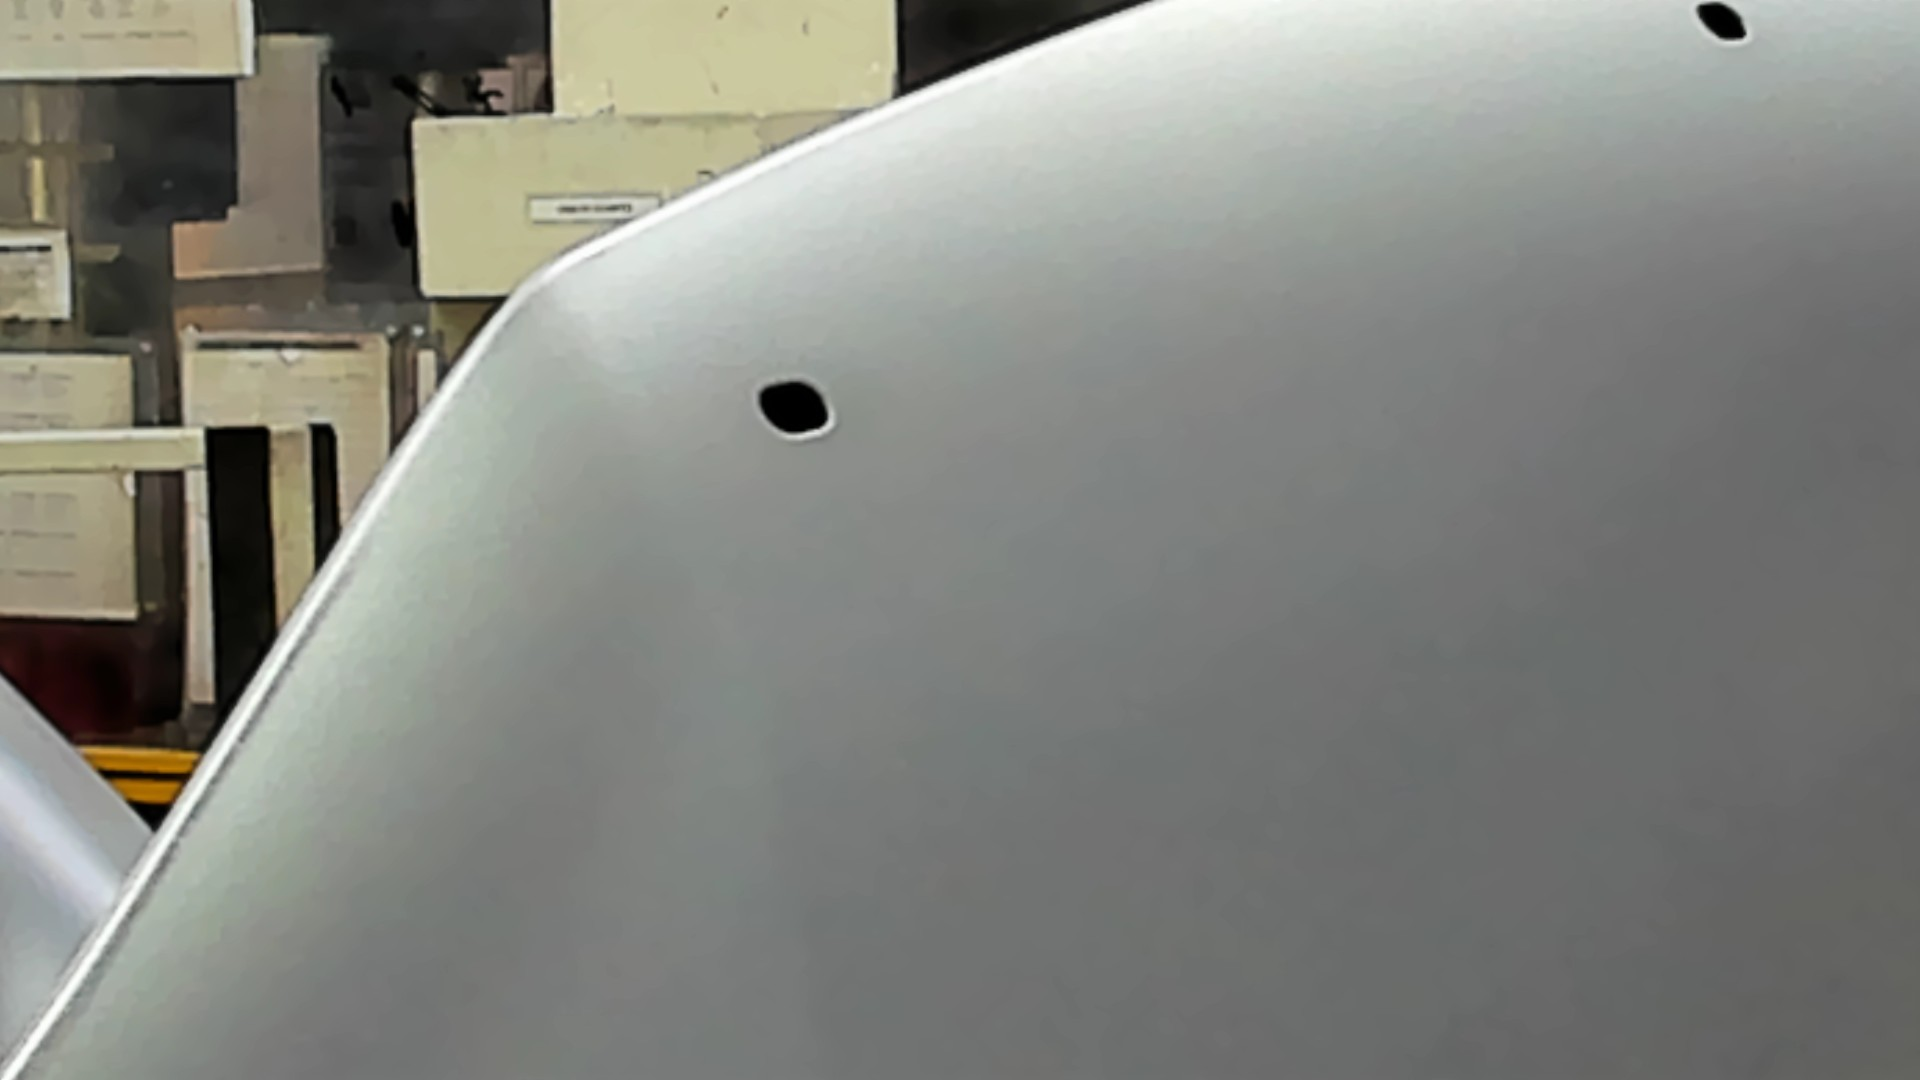amorfo: (750, 371, 839, 444), (1691, 1, 1755, 46)
